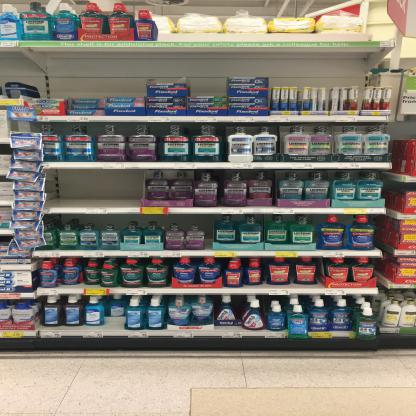Void: (50, 166, 143, 208), (31, 78, 143, 95), (189, 77, 227, 96)
